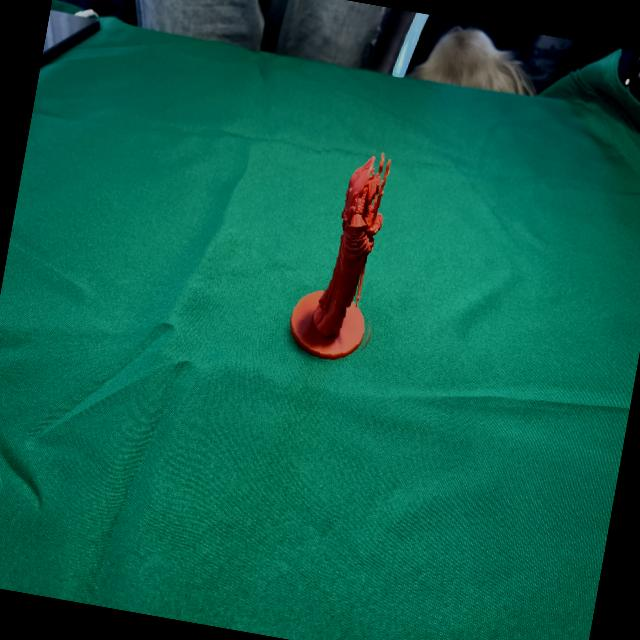amon: (281, 134, 413, 370)
